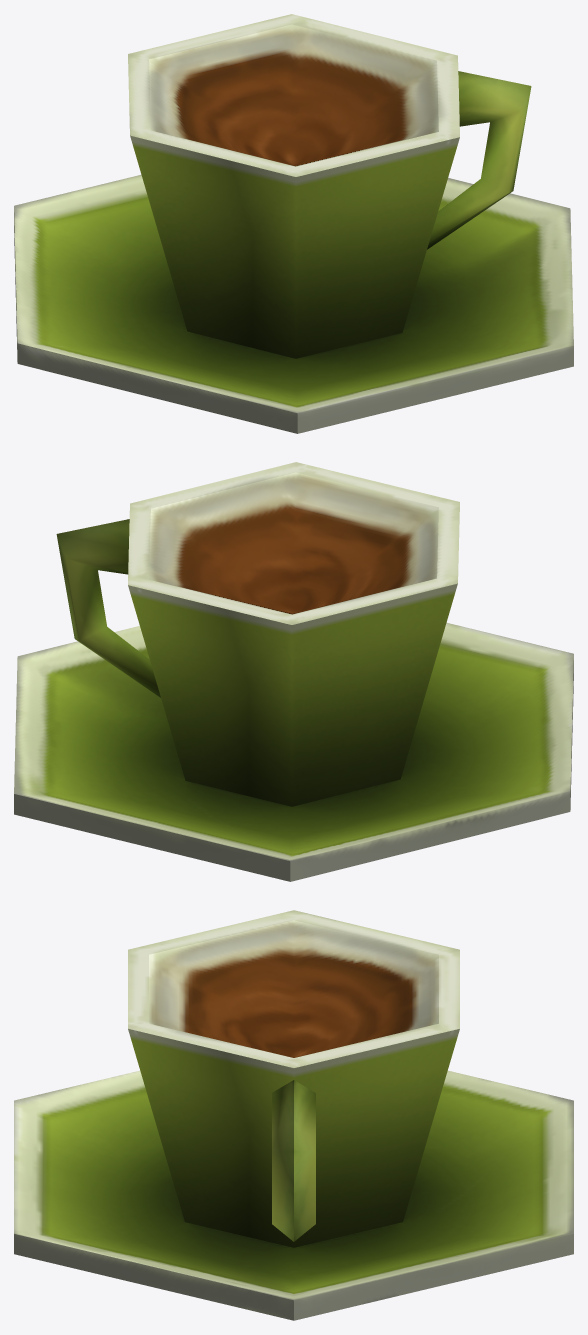
The model's file is cup.DAE.
3 views of the same model, one above another, from view 1: azimuth 30°, elevation 25°; view 2: azimuth 150°, elevation 25°; view 3: azimuth 270°, elevation 25° (orthographic).
Parts seen in each view (by area): view 1: cup-Pivot; view 2: cup-Pivot; view 3: cup-Pivot.
Part boxes in pixels (<box>): cup-Pivot: <box>14,14,573,433</box>; cup-Pivot: <box>14,462,573,881</box>; cup-Pivot: <box>14,910,573,1320</box>.
Size of the model in its own units: 19.41 by 7.04 by 17.24.
1 material, 1 textured.
